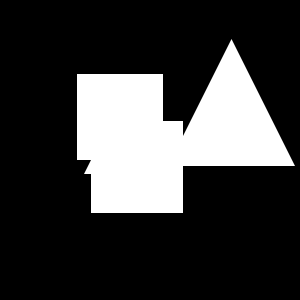circle: (91, 121, 183, 213), (77, 74, 163, 160)
triangle: (168, 39, 295, 166), (84, 111, 147, 174)
